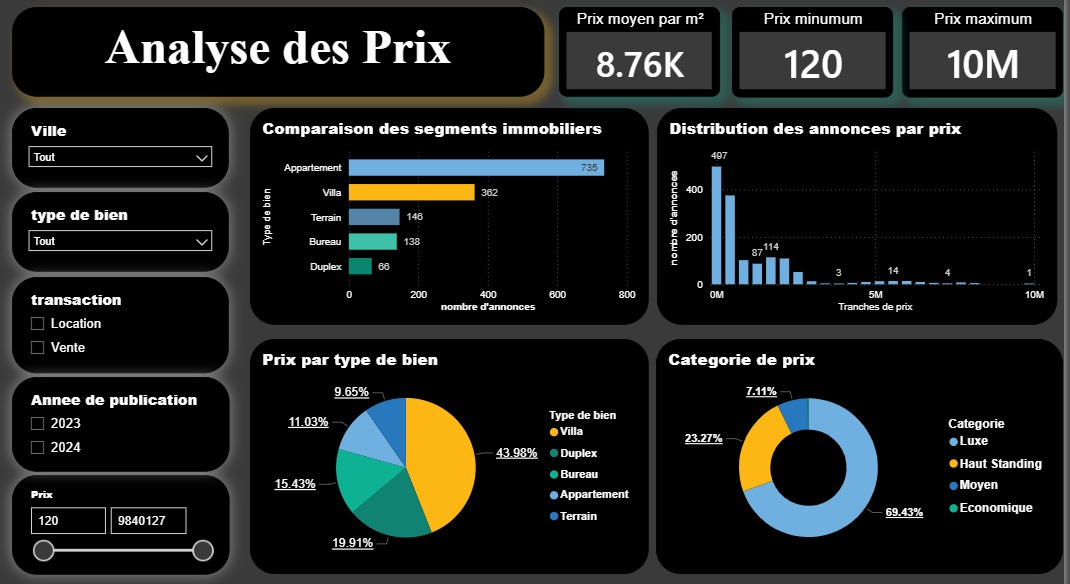

The dashboard page shown, as its layout file describes it:
{"tool":"powerbi","page":{"name":"Analyse des Prix","canvas":[1280,720],"ordinal":1},"visuals":[{"type":"textbox","box":[14.4,16.9,640.5,108.4],"z":0},{"type":"slicer","fields":{"Values":["bi_schema dim_location.ville"]},"box":[14.4,138,261.4,96.4],"z":1000},{"type":"clusteredBarChart","title":"Comparaison des segments immobiliers","fields":{"Category":["bi_schema dim_bien.type_bien"],"Y":["bi_schema dim_bien.nombre_total_annnces"]},"box":[300.9,138.2,480.9,285.1],"z":2000},{"type":"slicer","fields":{"Values":["bi_schema dim_bien.type_bien"]},"box":[14.4,240.1,261.4,96.4],"z":3000},{"type":"slicer","fields":{"Values":["bi_schema dim_transaction.transaction"]},"box":[14.4,341.6,261.4,115.7],"z":4000},{"type":"slicer","fields":{"Values":["bi_schema fact_annonces.prix"]},"box":[14.4,580.6,261.5,119.7],"z":5000},{"type":"slicer","fields":{"Values":["bi_schema dim_date.annee_publication"]},"box":[14.4,462.3,262.1,113.6],"z":6000},{"type":"cardVisual","title":"Prix moyen par m²","fields":{"Data":["bi_schema dim_bien.prix_moyenne_m2"]},"box":[673,16.9,193.8,108.4],"z":7000},{"type":"cardVisual","title":"Prix maximum","fields":{"Data":["Max(bi_schema fact_annonces.prix)"]},"box":[1085.9,16.5,194.1,108.7],"z":8000},{"type":"cardVisual","title":"Prix minumum","fields":{"Data":["Min(bi_schema fact_annonces.prix)"]},"box":[880.9,16.5,194.1,108.7],"z":9000},{"type":"pieChart","title":"Prix par type de bien","fields":{"Category":["bi_schema dim_bien.type_bien"],"Y":["Avg(bi_schema fact_annonces.prix)"]},"box":[300.8,432.1,480.7,287.6],"z":11000},{"type":"pieChart","title":"Categorie de prix","fields":{"Category":["bi_schema dim_transaction.categorie_prix"],"Y":["Avg(bi_schema fact_annonces.prix)"]},"box":[790.4,432.1,489.6,287.6],"z":12000},{"type":"clusteredColumnChart","title":"Distribution des annonces par prix","fields":{"Y":["bi_schema dim_bien.nombre_total_annnces"],"Category":["bi_schema fact_annonces.prix (compartiments)"]},"box":[791,138.5,481.6,285.4],"z":12001}]}

Visuals, with their boxes on the page's 1280x720 design canvas (x1, y1, x2, y2). These are canvas units, not pixel positions in the 1070x584 screenshot, which may show the page scaled, cropped or inside an application window:
textbox: bbox(14, 17, 655, 125)
slicer - bi_schema dim_location.ville: bbox(14, 138, 276, 234)
"Comparaison des segments immobiliers" clusteredBarChart: bbox(301, 138, 782, 423)
slicer - bi_schema dim_bien.type_bien: bbox(14, 240, 276, 336)
slicer - bi_schema dim_transaction.transaction: bbox(14, 342, 276, 457)
slicer - bi_schema fact_annonces.prix: bbox(14, 581, 276, 700)
slicer - bi_schema dim_date.annee_publication: bbox(14, 462, 276, 576)
"Prix moyen par m²" cardVisual: bbox(673, 17, 867, 125)
"Prix maximum" cardVisual: bbox(1086, 16, 1280, 125)
"Prix minumum" cardVisual: bbox(881, 16, 1075, 125)
"Prix par type de bien" pieChart: bbox(301, 432, 782, 720)
"Categorie de prix" pieChart: bbox(790, 432, 1280, 720)
"Distribution des annonces par prix" clusteredColumnChart: bbox(791, 138, 1273, 424)
